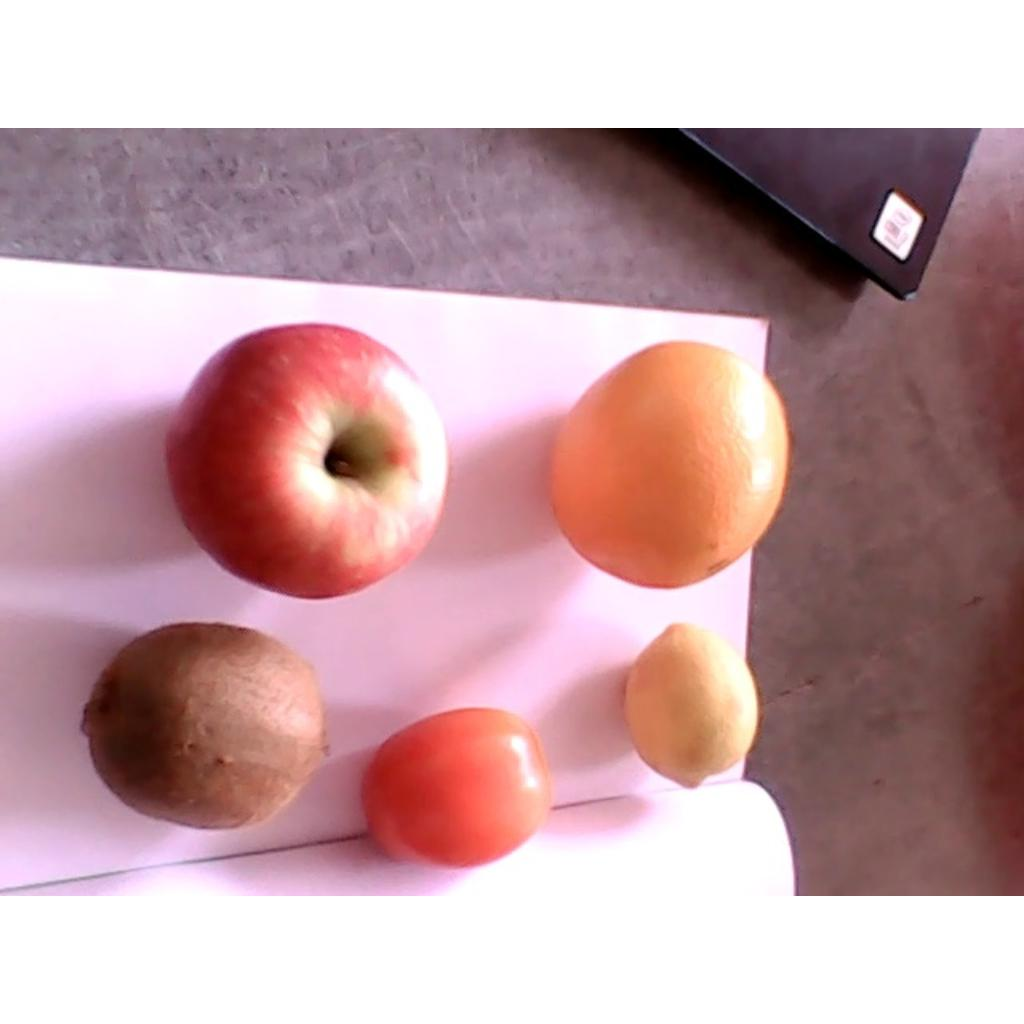apple: (161, 322, 451, 601)
kiwi: (82, 623, 334, 830)
lemon: (623, 623, 762, 789)
orange: (552, 340, 791, 588)
tomato: (360, 709, 555, 868)
